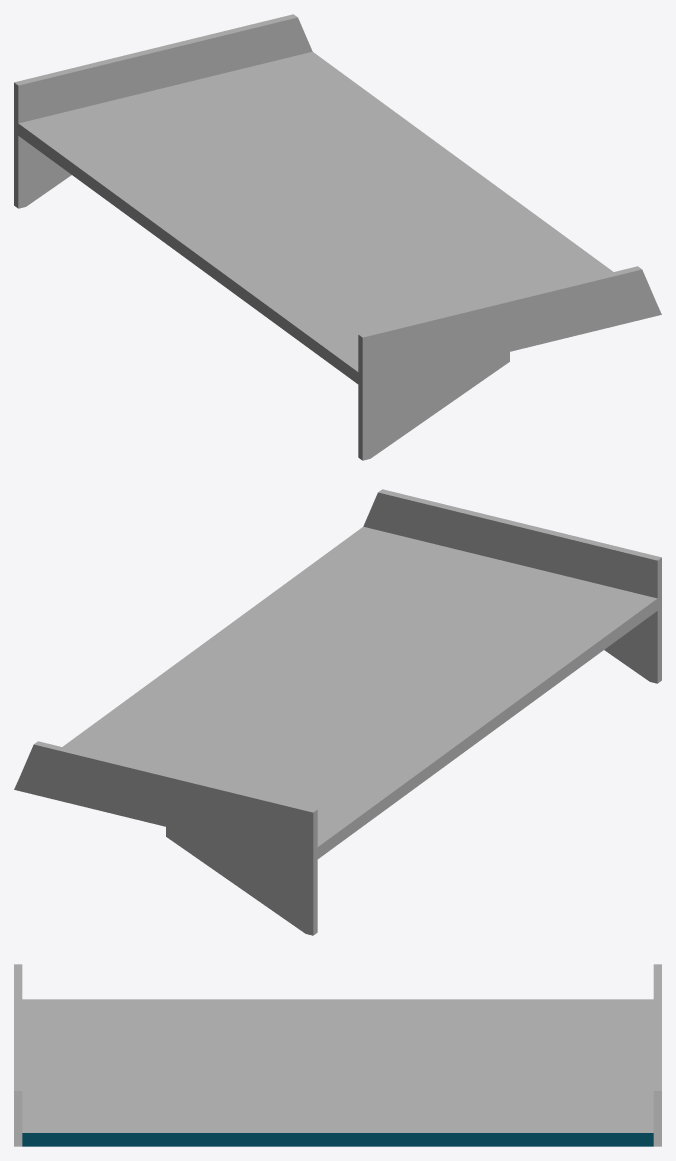
The model's file is Shelf_01_Shelf.glb.
The picture shows the model from 3 angles, top to bottom: view 1: azimuth 30°, elevation 25°; view 2: azimuth 150°, elevation 25°; view 3: azimuth 270°, elevation 25°; orthographic projection. The views are drawn at different scales.
Visible parts, largest first — view 1: Mesh_Shelf_01_Shelf; view 2: Mesh_Shelf_01_Shelf; view 3: Mesh_Shelf_01_Shelf.
Boxes of the visible parts, bbox=[...] form: Mesh_Shelf_01_Shelf: bbox=[14, 14, 661, 460]; Mesh_Shelf_01_Shelf: bbox=[14, 489, 661, 935]; Mesh_Shelf_01_Shelf: bbox=[14, 964, 661, 1146].
Size of the model in its own units: 0.5085 by 0.1998 by 1.03.
1 material, 1 textured.
